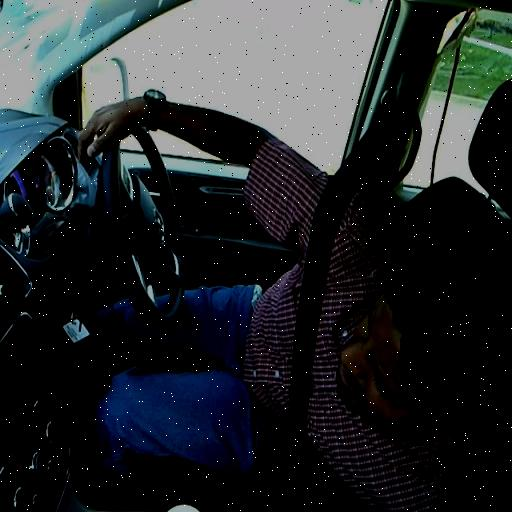turning: (86, 92, 491, 470)
